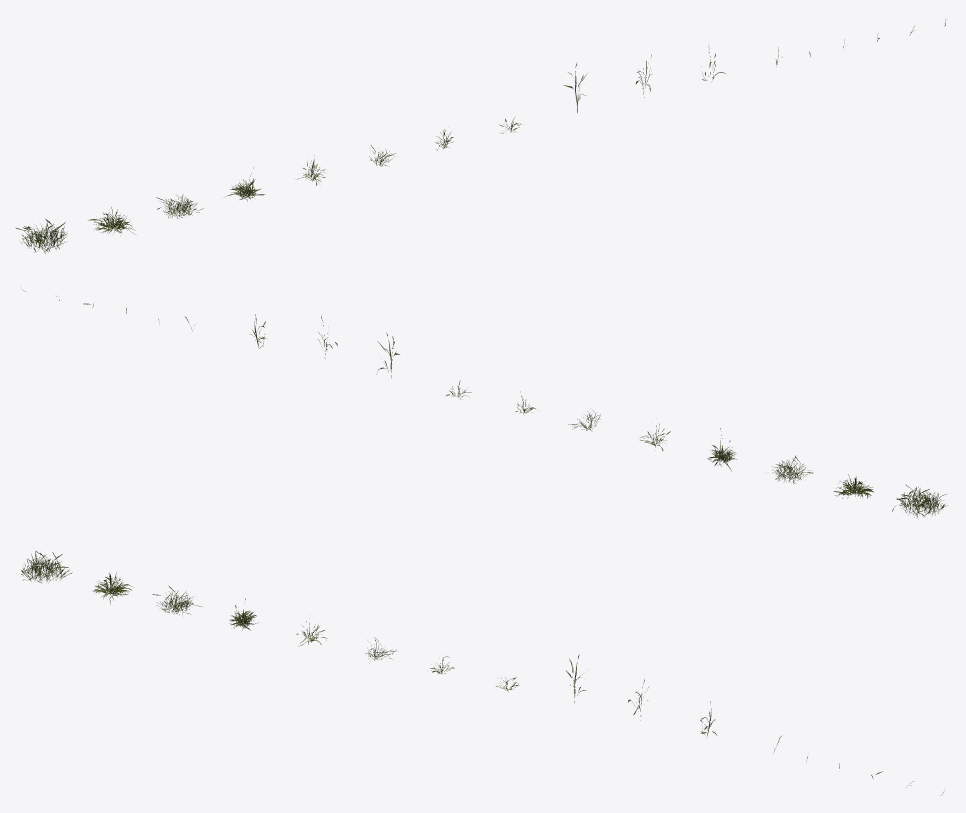
The model's file is grass_medium_01.light.glb.
3 views of the same model, one above another, from view 1: azimuth 30°, elevation 25°; view 2: azimuth 150°, elevation 25°; view 3: azimuth 330°, elevation 25° (orthographic).
Visible parts, largest first — view 1: grass_medium_01_large_a_LOD0; view 2: grass_medium_01_large_a_LOD0; view 3: grass_medium_01_large_a_LOD0.
Boxes of the visible parts, left/top/right/bottom form: grass_medium_01_large_a_LOD0: left=15, top=219, right=67, bottom=253; grass_medium_01_large_a_LOD0: left=892, top=484, right=947, bottom=517; grass_medium_01_large_a_LOD0: left=21, top=551, right=72, bottom=583.
Bounding box in the file's own units: 2 × 0.1209 × 0.1165.
Materials: 1 (1 with a texture image).
